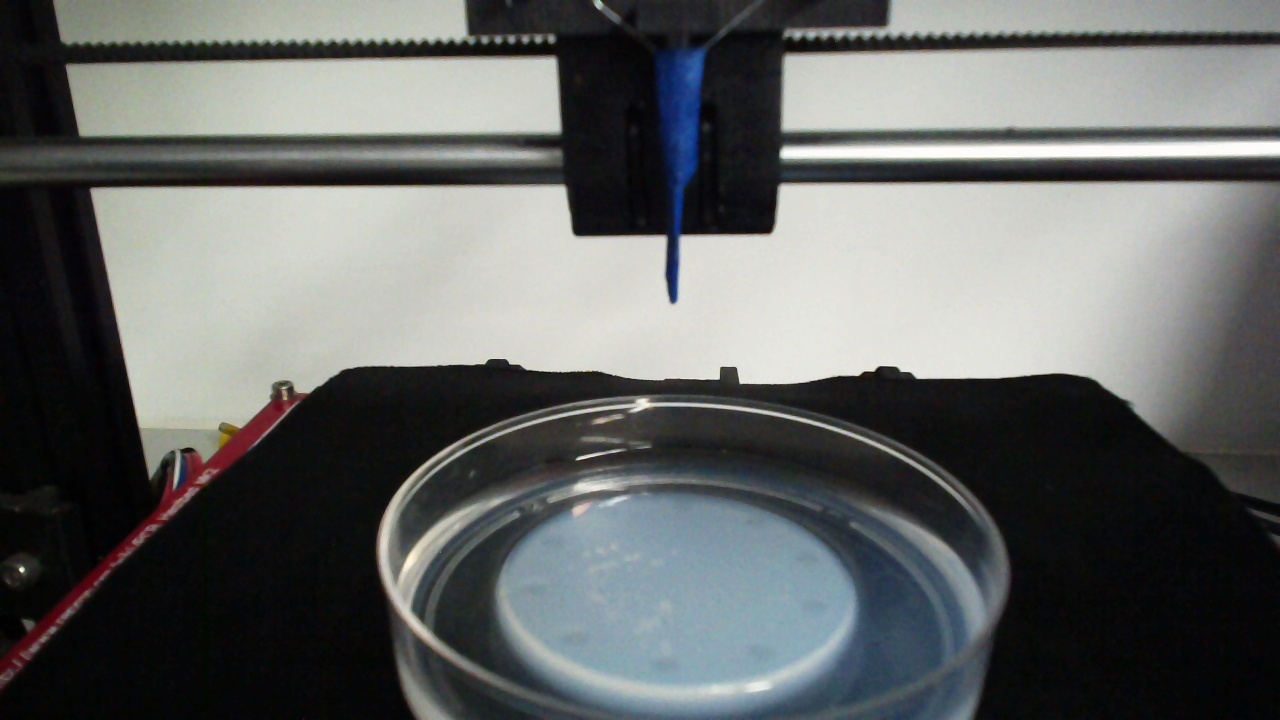groove: (749, 644, 778, 665), (650, 656, 681, 675), (561, 630, 590, 648), (800, 601, 828, 619), (523, 581, 551, 599), (795, 552, 821, 569), (743, 512, 770, 528), (541, 535, 566, 551)
needle: (657, 51, 705, 303)
